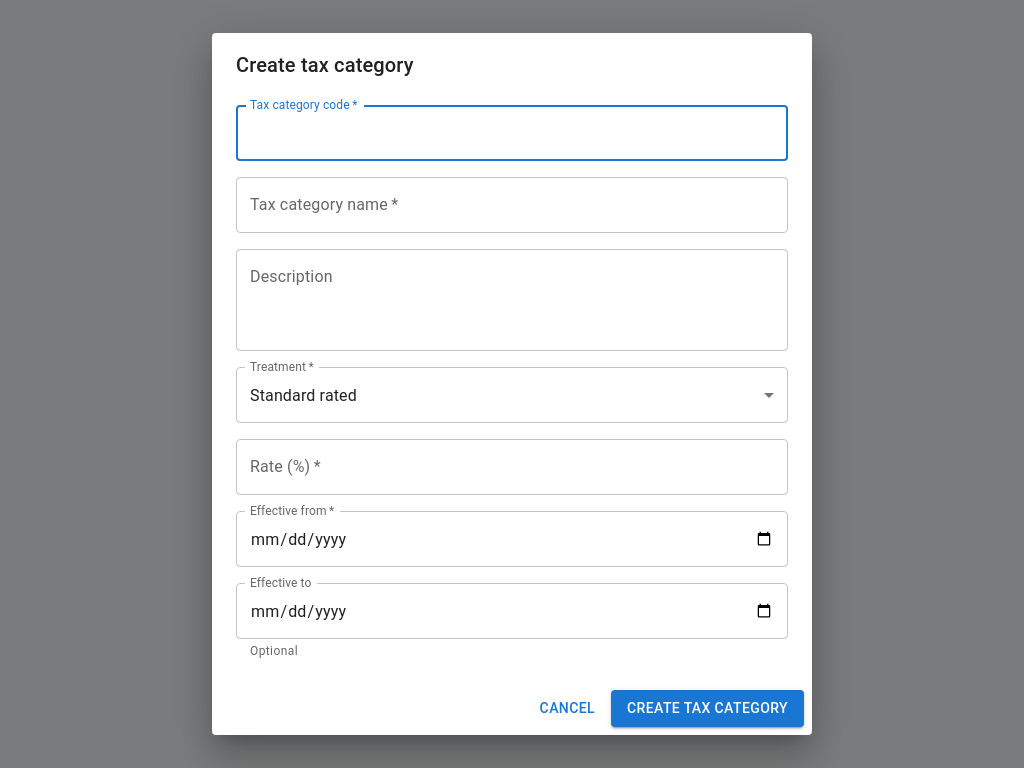
Scenario: CreateTaxCategoryDialog › shows required-field errors without submitting
Click the button "Create tax category".
click(708, 708)  # box [611,690,804,727]
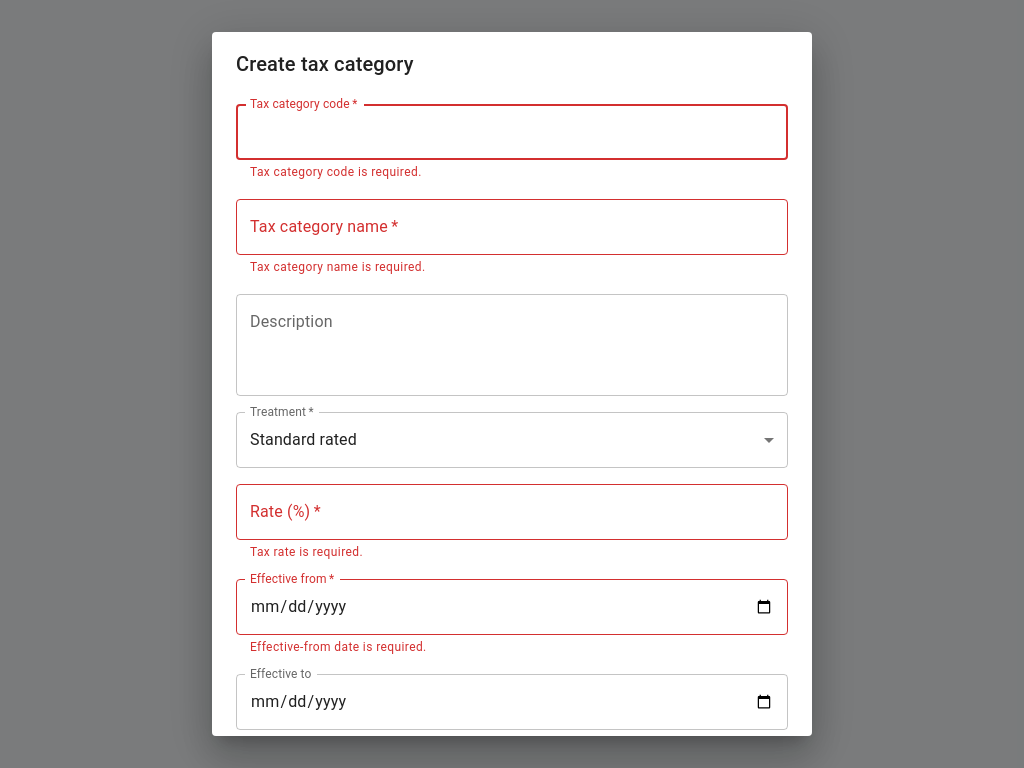
Check: the text "Tax category code is required." is shown, box [250,165,422,179]
Check: the text "Tax category name is required." is shown, box [250,260,426,274]
Check: the text "Tax rate is required." is shown, box [250,545,363,559]
